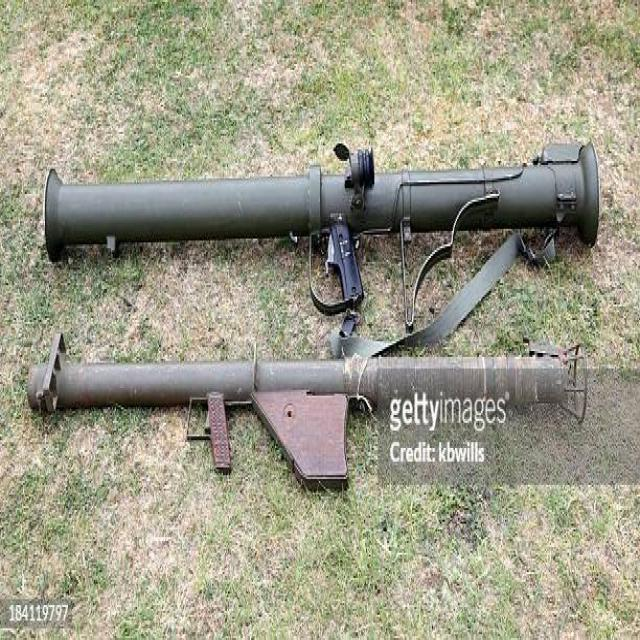bazooka: (35, 133, 614, 491)
